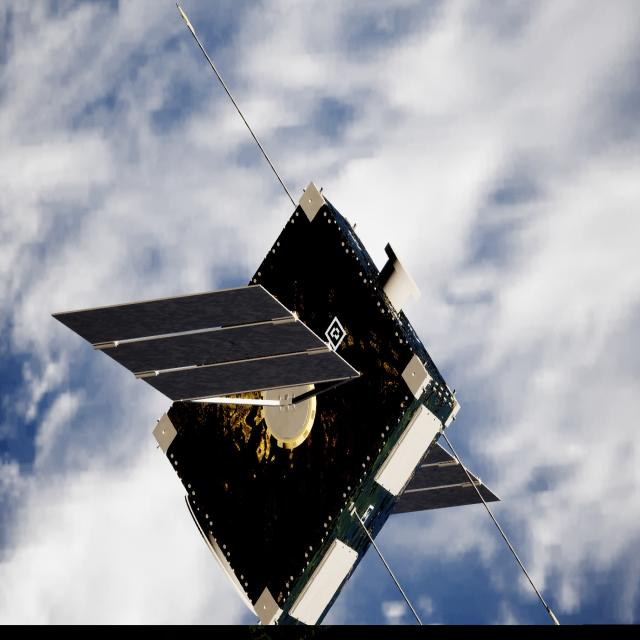satellite: (57, 185, 497, 624)
